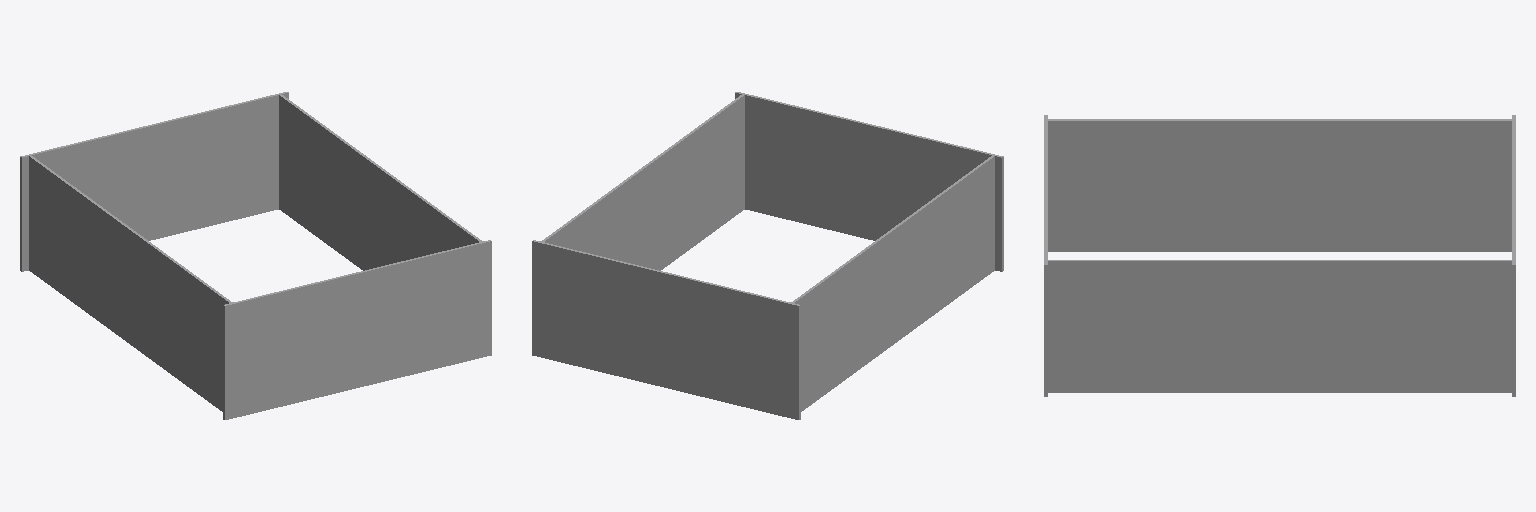
robot.urdf — wall:
<?xml version="1.0" ?>
<robot name="wall">
  <link name="world"/>
  <link name="T1">
    <collision name="collision">
      <geometry>
        <mesh filename="package://abb_irb6640_support/meshes/Scene/T1.stl" scale="0.5 0.5 0.5"/>
      </geometry>
    </collision>
    <visual name="visual">
      <geometry>
        <mesh filename="package://abb_irb6640_support/meshes/Scene/T1.stl" scale="0.5 0.5 0.5"/>
      </geometry>
      <material name="DarkGrey">
        <color rgba="0.7 0.7 0.7 0.5"/>
      </material>
    </visual>
  </link>
  <link name="T2">
    <collision name="collision">
      <geometry>
        <mesh filename="package://abb_irb6640_support/meshes/Scene/T1.stl" scale="0.5 0.5 0.5"/>
      </geometry>
    </collision>
    <visual name="visual">
      <geometry>
        <mesh filename="package://abb_irb6640_support/meshes/Scene/T1.stl" scale="0.5 0.5 0.5"/>
      </geometry>
      <material name="DarkGrey">
        <color rgba="0.7 0.7 0.7 0.5"/>
      </material>
    </visual>
  </link>
  <link name="T3">
    <collision name="collision">
      <geometry>
        <mesh filename="package://abb_irb6640_support/meshes/Scene/T3.stl" scale="0.5 0.5 0.5"/>
      </geometry>
    </collision>
    <visual name="visual">
      <geometry>
        <mesh filename="package://abb_irb6640_support/meshes/Scene/T3.stl" scale="0.5 0.5 0.5"/>
      </geometry>
      <material name="DarkGrey">
        <color rgba="0.7 0.7 0.7 0.5"/>
      </material>
    </visual>
  </link>
  <link name="T4">
    <collision name="collision">
      <geometry>
        <mesh filename="package://abb_irb6640_support/meshes/Scene/T3.stl" scale="0.5 0.5 0.5"/>
      </geometry>
    </collision>
    <visual name="visual">
      <geometry>
        <mesh filename="package://abb_irb6640_support/meshes/Scene/T3.stl" scale="0.5 0.5 0.5"/>
      </geometry>
      <material name="DarkGrey">
        <color rgba="0.7 0.7 0.7 0.5"/>
      </material>
    </visual>
  </link>

  <joint name="T1_joint" type="fixed">
    <parent link="world"/>
    <child link="T1"/>
    <origin rpy="0 0 0" xyz="1.5384 -3.8262 1"/>
  </joint>
  <joint name="T2_joint" type="fixed">
    <parent link="world"/>
    <child link="T2"/>
    <origin rpy="0 0 0" xyz="1.5384 2.6 1"/>
  </joint>
  <joint name="T3_joint" type="fixed">
    <parent link="world"/>
    <child link="T3"/>
    <origin rpy="0 0 0" xyz="-0.75 -0.6131 1"/>
  </joint>
  <joint name="T4_joint" type="fixed">
    <parent link="world"/>
    <child link="T4"/>
    <origin rpy="0 0 0" xyz="3.8268 -0.6131 1"/>
  </joint>

  <gazebo>
    <static>true</static>
  </gazebo>
</robot>

--- What the picture shows (computed from the rendered views, not written in the file) ---
The picture shows the robot from 3 angles, left to right: view 1: azimuth 30°, elevation 25°; view 2: azimuth 150°, elevation 25°; view 3: azimuth 270°, elevation 25°; orthographic projection.
Robot: wall — 5 links, 4 joints (4 fixed); root link world; default pose: every joint at zero.
Visible links, largest first — view 1: T1, T2, T3, T4; view 2: T2, T1, T3, T4; view 3: T4, T3, T1, T2.
Link boxes in pixels (<box>): T1: <box>223,240,491,419</box>; T2: <box>20,92,288,271</box>; T3: <box>28,155,232,411</box>; T4: <box>279,94,482,270</box>; T2: <box>532,240,800,419</box>; T1: <box>735,92,1003,271</box>; T3: <box>791,155,994,411</box>; T4: <box>541,94,744,270</box>; T4: <box>1046,260,1513,392</box>; T3: <box>1048,119,1511,251</box>; T1: <box>1044,115,1047,396</box>; T2: <box>1512,115,1515,396</box>.
Bounding box of the posed robot: 4.88 × 6.48 × 2 m (x, y, z).
4 mesh visuals loaded from 2 distinct referenced files (2 binary STL).